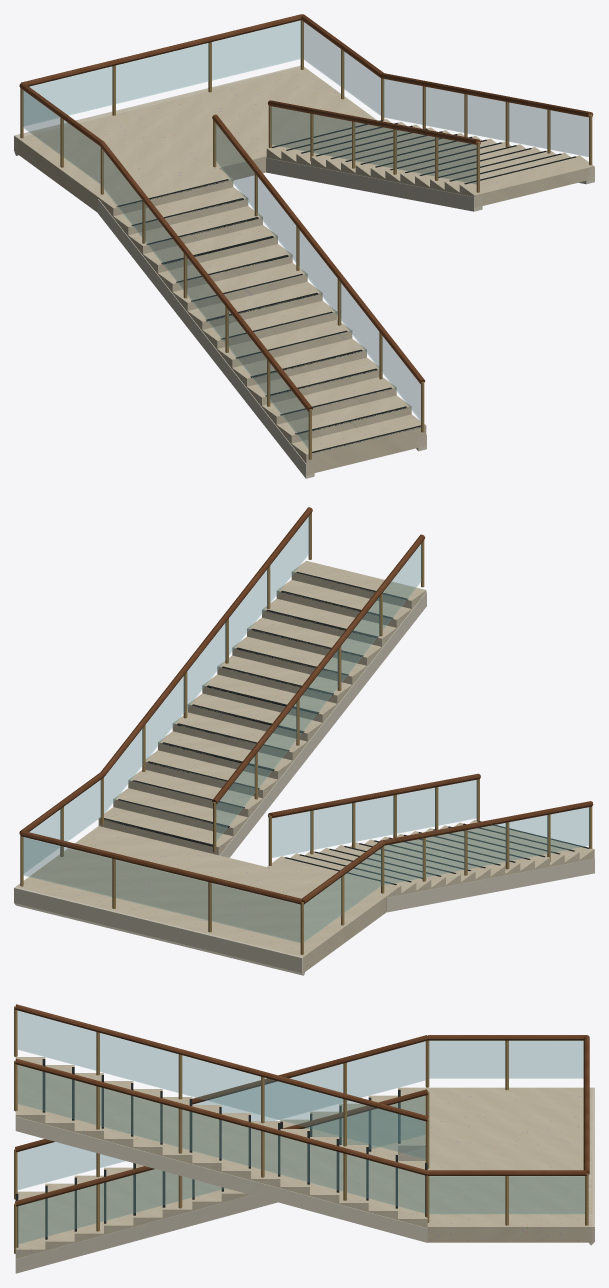
The model's file is AST-CIR-001_H450.glb.
3 renders of one model, top to bottom at view 1: azimuth 30°, elevation 25°; view 2: azimuth 150°, elevation 25°; view 3: azimuth 270°, elevation 25°, orthographic.
Visible parts, largest first — view 1: CIR_Flight_0, CIR_MidLanding, CIR_Flight_1, CIR_GuardLandingRear, CIR_Guard_1_1, CIR_Guard_1_0, CIR_Guard_0_1, CIR_Guard_0_0, CIR_ProfiledStringer_0_0, CIR_ProfiledStringer_1_0, CIR_GuardLandingSide_0.08, CIR_GuardLandingSide_5.92 (+8 smaller); view 2: CIR_Flight_1, CIR_MidLanding, CIR_Flight_0, CIR_GuardLandingRear, CIR_Guard_0_1, CIR_Guard_0_0, CIR_Guard_1_1, CIR_Guard_1_0, CIR_LandingFascia, CIR_ProfiledStringer_1_0, CIR_ProfiledStringer_0_0, CIR_GuardLandingSide_0.08 (+8 smaller); view 3: CIR_MidLanding, CIR_Flight_1, CIR_Guard_1_1, CIR_Guard_1_0, CIR_Flight_0, CIR_Guard_0_1, CIR_Guard_0_0, CIR_ProfiledStringer_1_1, CIR_GuardLandingSide_5.92, CIR_GuardLandingSide_0.08, CIR_ProfiledStringer_0_1, CIR_Handrail_1_1 (+7 smaller).
Part boxes in pixels (left/top/right/bottom): CIR_Flight_0: left=98, top=168, right=426, bottom=474; CIR_MidLanding: left=15, top=67, right=376, bottom=212; CIR_Flight_1: left=266, top=119, right=594, bottom=207; CIR_GuardLandingRear: left=24, top=20, right=301, bottom=125; CIR_Guard_1_1: left=383, top=79, right=588, bottom=156; CIR_Guard_1_0: left=271, top=106, right=476, bottom=184; CIR_Guard_0_1: left=215, top=123, right=420, bottom=421; CIR_Guard_0_0: left=103, top=150, right=308, bottom=448; CIR_ProfiledStringer_0_0: left=98, top=199, right=314, bottom=478; CIR_ProfiledStringer_1_0: left=266, top=158, right=482, bottom=211; CIR_GuardLandingSide_0.08: left=22, top=90, right=100, bottom=183; CIR_GuardLandingSide_5.92: left=303, top=22, right=380, bottom=115; CIR_Flight_1: left=98, top=561, right=426, bottom=855; CIR_MidLanding: left=15, top=826, right=386, bottom=972; CIR_Flight_0: left=267, top=820, right=594, bottom=897; CIR_GuardLandingRear: left=23, top=837, right=300, bottom=942; CIR_Guard_0_1: left=272, top=780, right=477, bottom=857; CIR_Guard_0_0: left=384, top=807, right=589, bottom=884; CIR_Guard_1_1: left=104, top=516, right=309, bottom=813; CIR_Guard_1_0: left=216, top=543, right=421, bottom=841; CIR_LandingFascia: left=14, top=887, right=304, bottom=975; CIR_ProfiledStringer_1_0: left=220, top=591, right=426, bottom=857; CIR_ProfiledStringer_0_0: left=386, top=858, right=594, bottom=912; CIR_GuardLandingSide_0.08: left=304, top=848, right=382, bottom=941; CIR_MidLanding: left=427, top=1087, right=592, bottom=1242; CIR_Flight_1: left=15, top=1057, right=427, bottom=1228; CIR_Guard_1_1: left=18, top=1065, right=424, bottom=1213; CIR_Guard_1_0: left=18, top=1011, right=424, bottom=1158; CIR_Flight_0: left=15, top=1087, right=427, bottom=1258; CIR_Guard_0_1: left=18, top=1096, right=424, bottom=1244; CIR_Guard_0_0: left=18, top=1041, right=424, bottom=1189; CIR_ProfiledStringer_1_1: left=15, top=1116, right=427, bottom=1242; CIR_GuardLandingSide_5.92: left=429, top=1176, right=584, bottom=1213; CIR_GuardLandingSide_0.08: left=429, top=1041, right=583, bottom=1078; CIR_ProfiledStringer_0_1: left=15, top=1147, right=425, bottom=1273; CIR_Handrail_1_1: left=15, top=1058, right=427, bottom=1175.
Bounding box in the file's own units: 6.02 × 5.91 × 10.58.
Materials: 6 (5 with a texture image).
